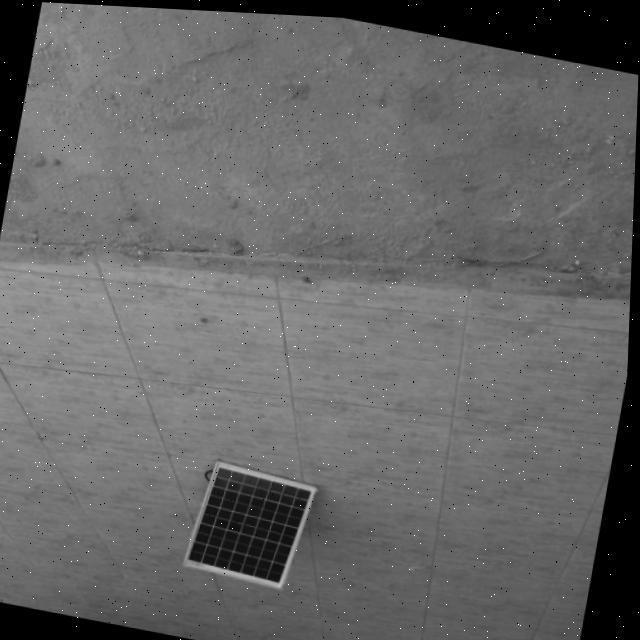Normal Solar Panel: (185, 454, 321, 590)
